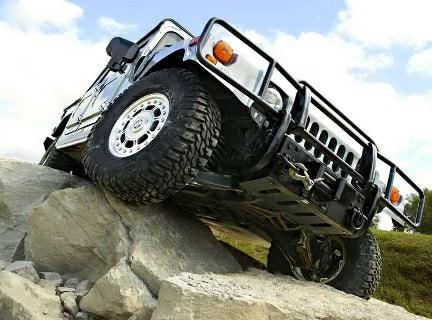红旗-H7: (43, 10, 428, 304)
